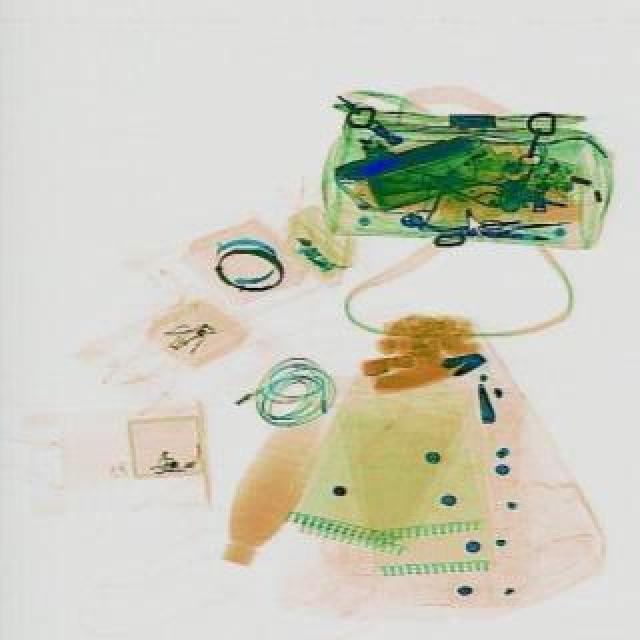pliers: (474, 212, 572, 240)
